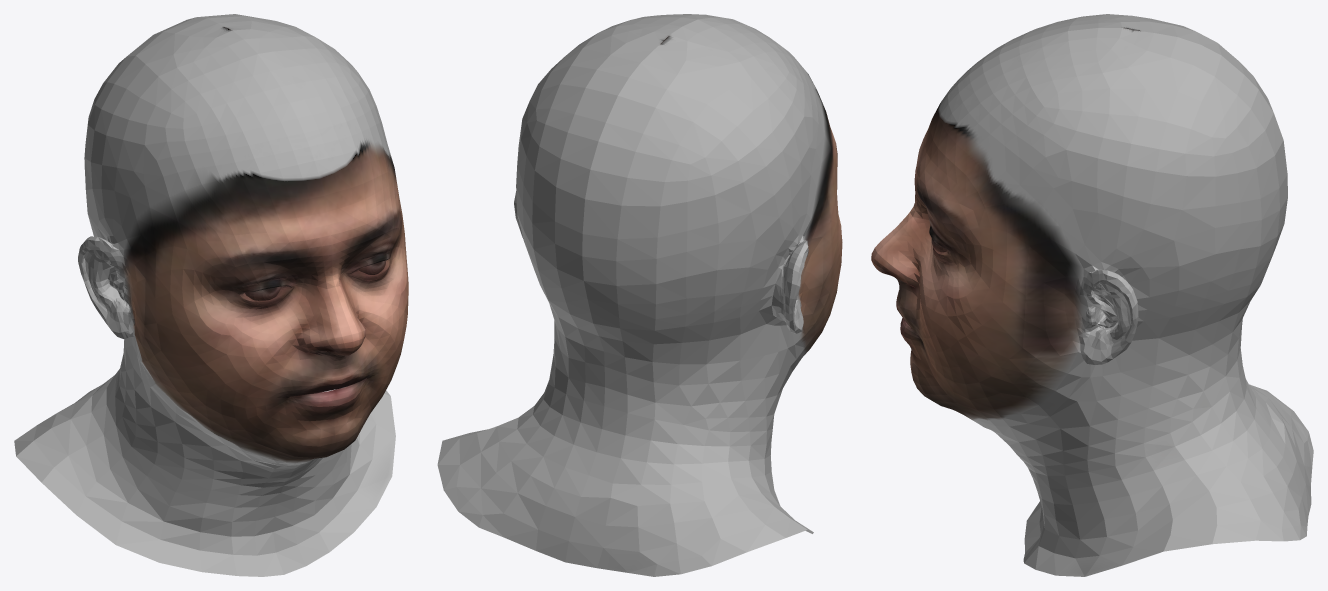
Rendered from IMG_0392_inputs.obj.
3 views of the same model, side by side, from view 1: azimuth 30°, elevation 25°; view 2: azimuth 150°, elevation 25°; view 3: azimuth 270°, elevation 25° (orthographic). The views are drawn at different scales.
Bounding box in the file's own units: 0.2269 × 0.3183 × 0.2441.
Materials: 1 (1 with a texture image).
